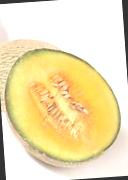Melon Ripe: (3, 43, 124, 172)
